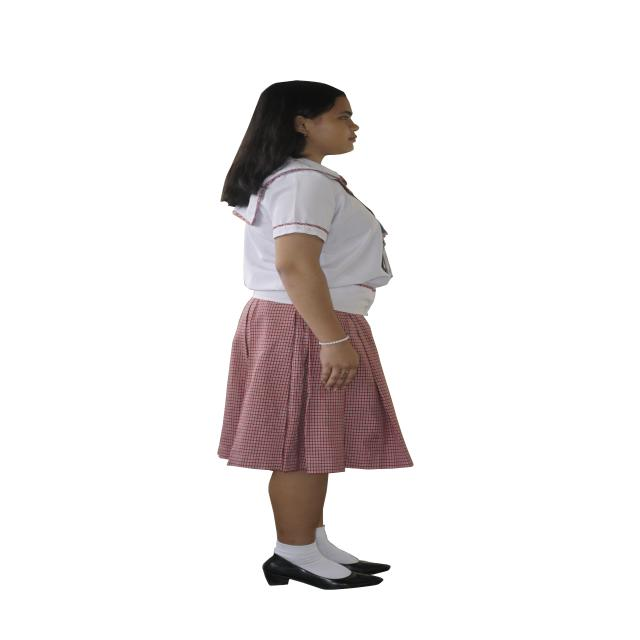pologirl: (233, 159, 392, 316)
shoes: (262, 553, 390, 590)
skirt: (218, 298, 413, 473)
